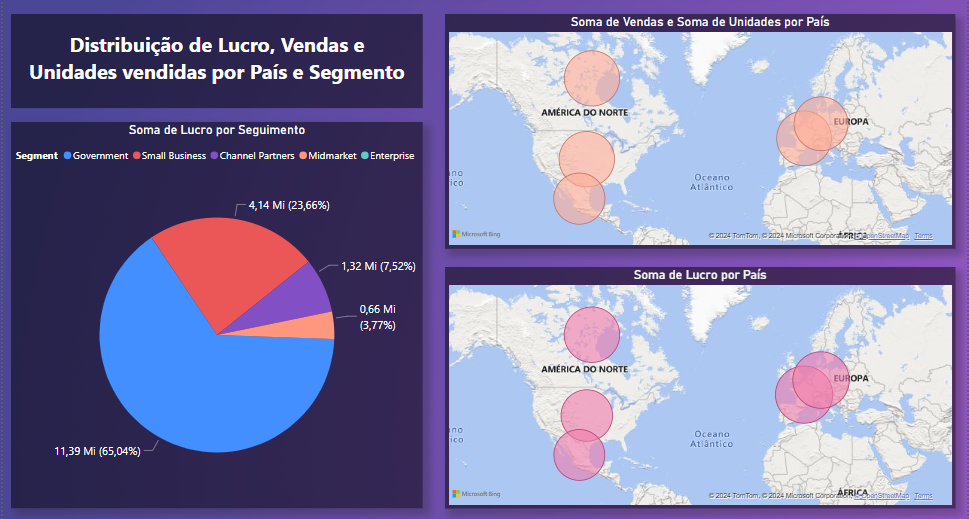

The page's visual inventory and layout, read from the dashboard file:
{"tool":"powerbi","page":{"name":"Página 3","canvas":[1280,720],"ordinal":2},"visuals":[{"type":"textbox","box":[10.3,23.5,547.1,125],"z":0},{"type":"pieChart","title":"Soma de Lucro por Seguimento","fields":{"Category":["financials.Segment"],"Y":["Sum(financials.Profit)"]},"box":[10.3,167.6,547.1,513.2],"z":1000},{"type":"map","title":"Soma de Vendas e Soma de Unidades por País","fields":{"Category":["financials.Country"],"Size":["Sum(financials. Sales)"]},"box":[586.8,23.5,677.9,311.8],"z":2000},{"type":"map","title":"Soma de Lucro por País","fields":{"Category":["financials.Country"],"Size":["Sum(financials.Profit)"]},"box":[586.8,360.3,677.9,320.6],"z":3000}]}

Visuals, with their boxes on the page's 1280x720 design canvas (x1, y1, x2, y2). These are canvas units, not pixel positions in the 969x519 screenshot, which may show the page scaled, cropped or inside an application window:
textbox: [10, 24, 557, 148]
"Soma de Lucro por Seguimento" pieChart: [10, 168, 557, 681]
"Soma de Vendas e Soma de Unidades por País" map: [587, 24, 1265, 335]
"Soma de Lucro por País" map: [587, 360, 1265, 681]
